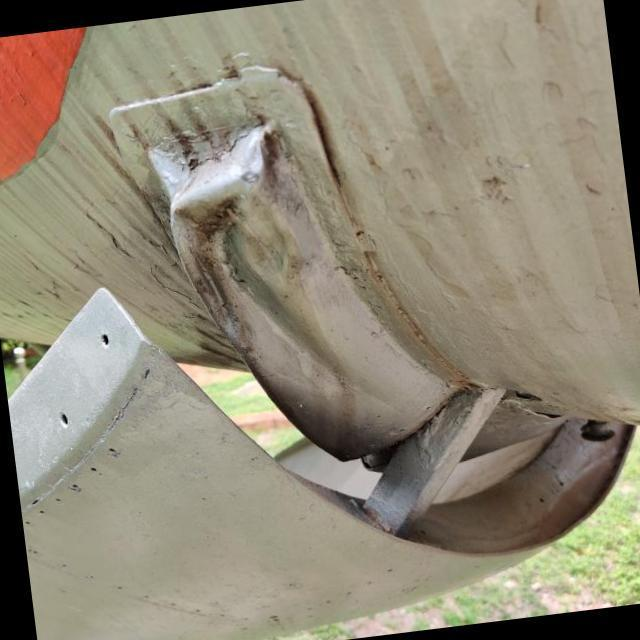Dent: (144, 115, 345, 421)
